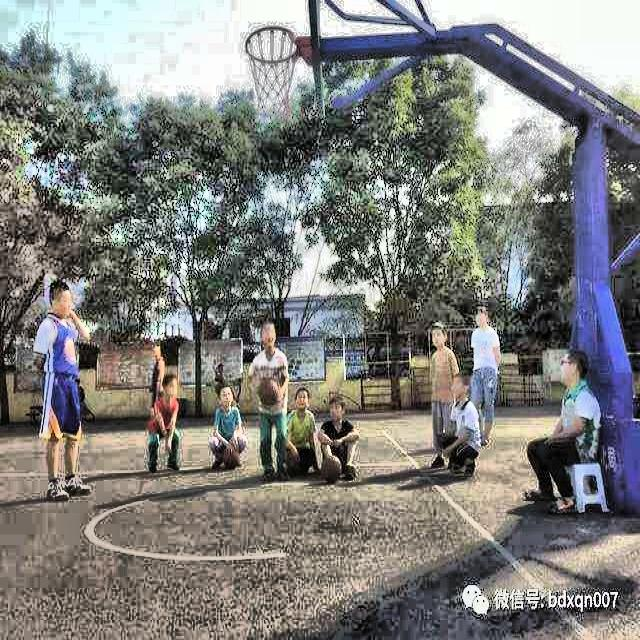rim: (245, 24, 298, 110)
